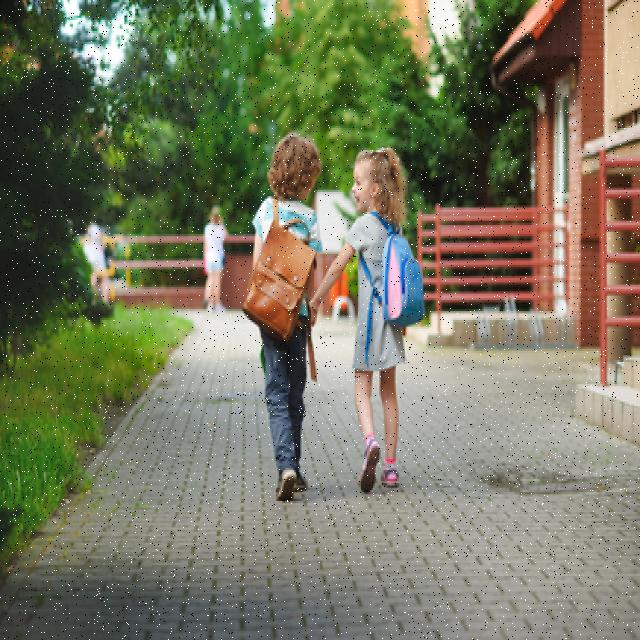Person: (310, 146, 425, 495), (242, 134, 322, 502)
